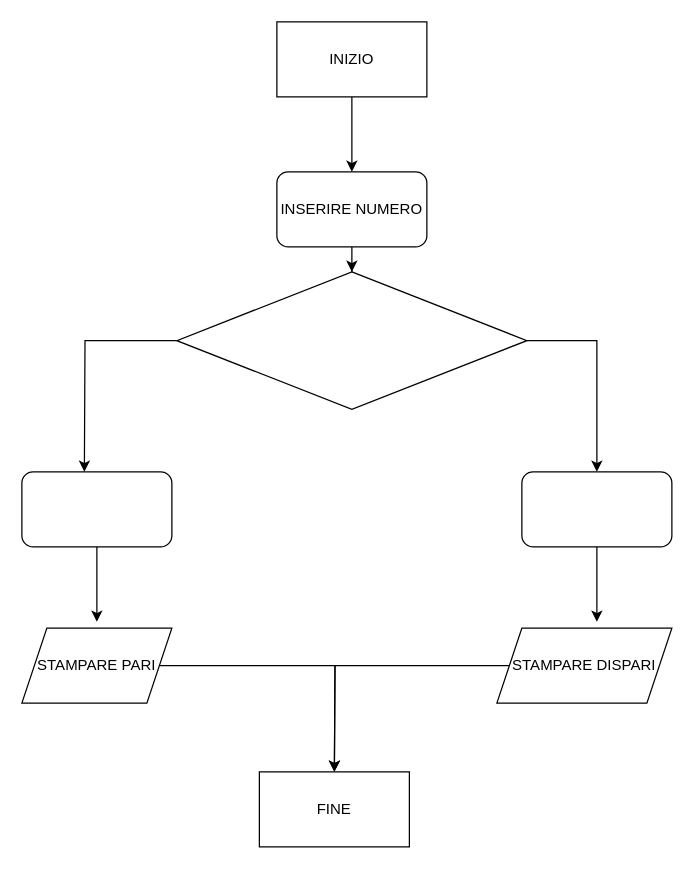
Image size: 694x869. Some labels were removed from this diagram. The centre of each missing label's shape, as x and y in pixels:
"NO" goes at point 596,509.
"NUMERO TERMINA CON 2,4,6,8,0?" goes at point 351,340.
"SI" goes at point 96,509.
